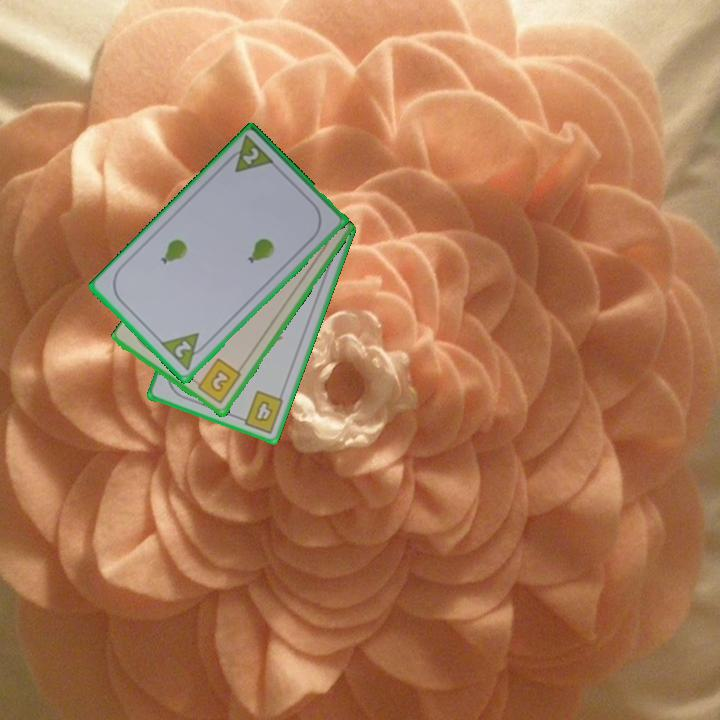2b: (191, 355, 244, 407)
2p: (222, 133, 278, 176), (158, 329, 211, 374)
4b: (234, 387, 287, 436)
